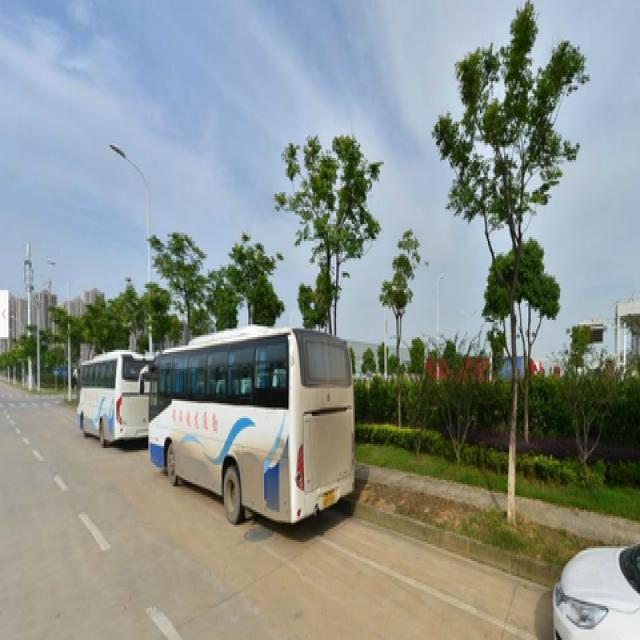koel: (454, 47, 534, 476), (290, 136, 366, 422), (157, 226, 192, 329)
